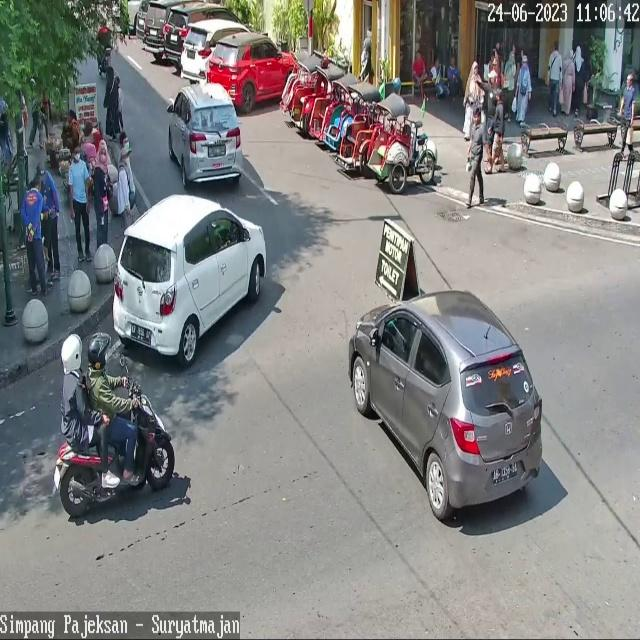bus: (52, 378, 175, 518)
motorcycle: (349, 291, 543, 522), (112, 194, 268, 367), (167, 84, 244, 187), (206, 33, 300, 112), (163, 4, 246, 64), (181, 21, 252, 87), (143, 0, 169, 53)
